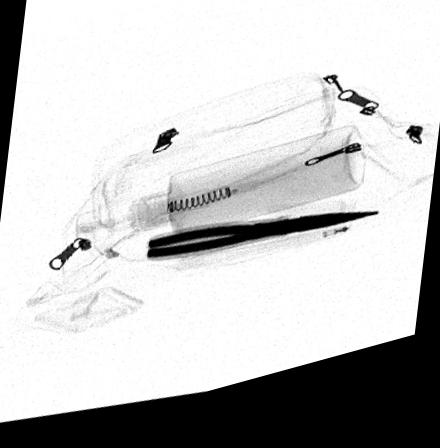Pliers: (142, 231, 379, 266)
